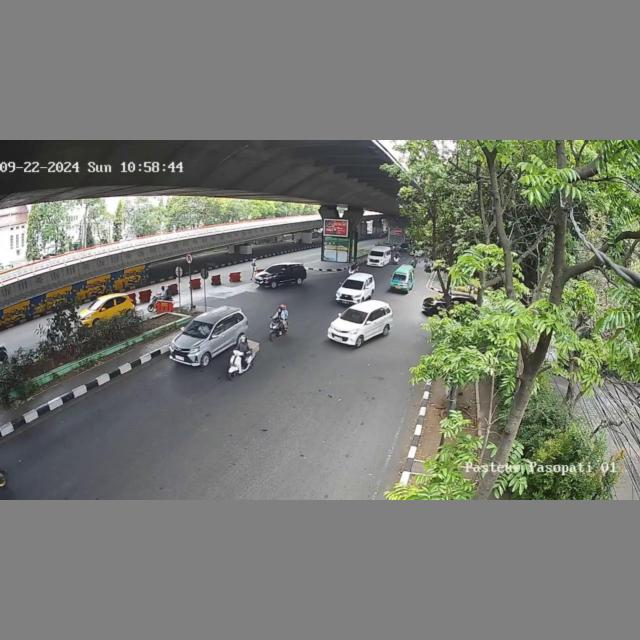windshield: (183, 320, 218, 339), (340, 308, 368, 323), (342, 279, 363, 288)
